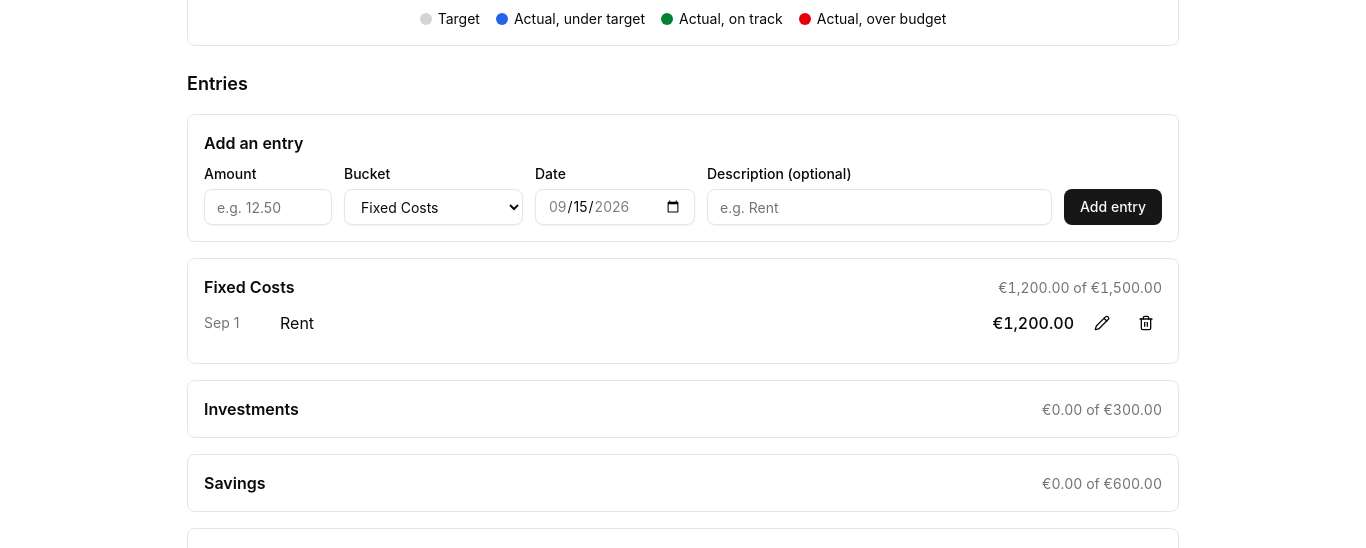
MonthPlanVsActual › explains that the totals could not be updated after an entry is added
The width and height of the screenshot is (1366, 548).
(page scrolled)
Step 1. Type "250" into the field labelled "Amount" → [268, 207], box [204,189,332,225]
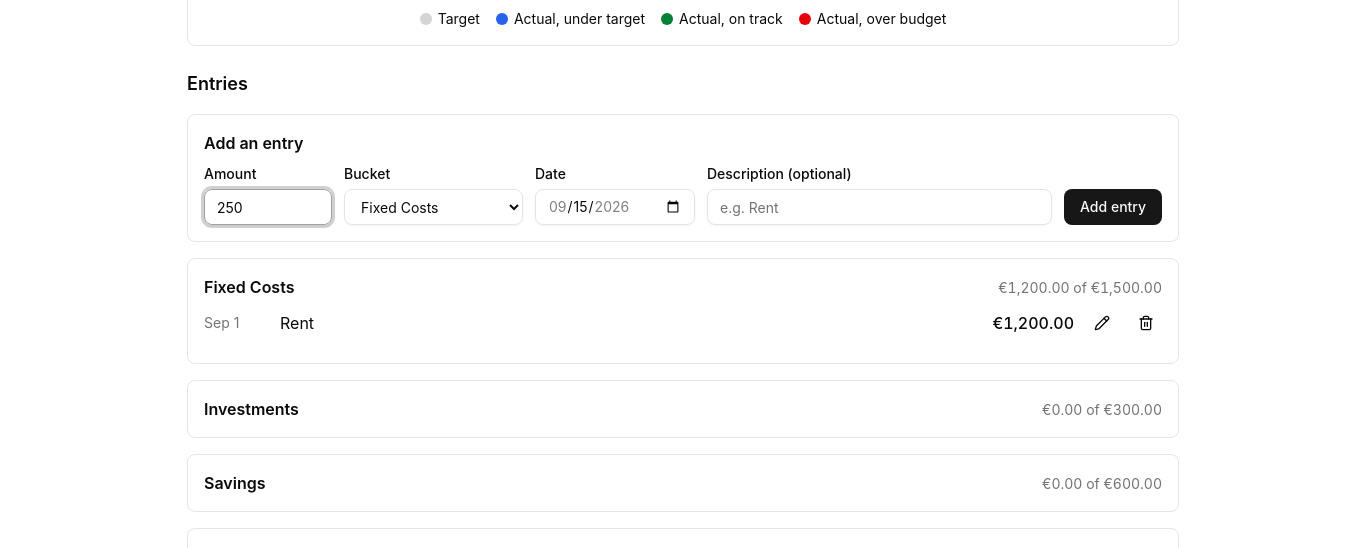
Step 2. Select "Investments" in the dropdown labelled "Bucket" → [434, 207], box [344,189,523,225]
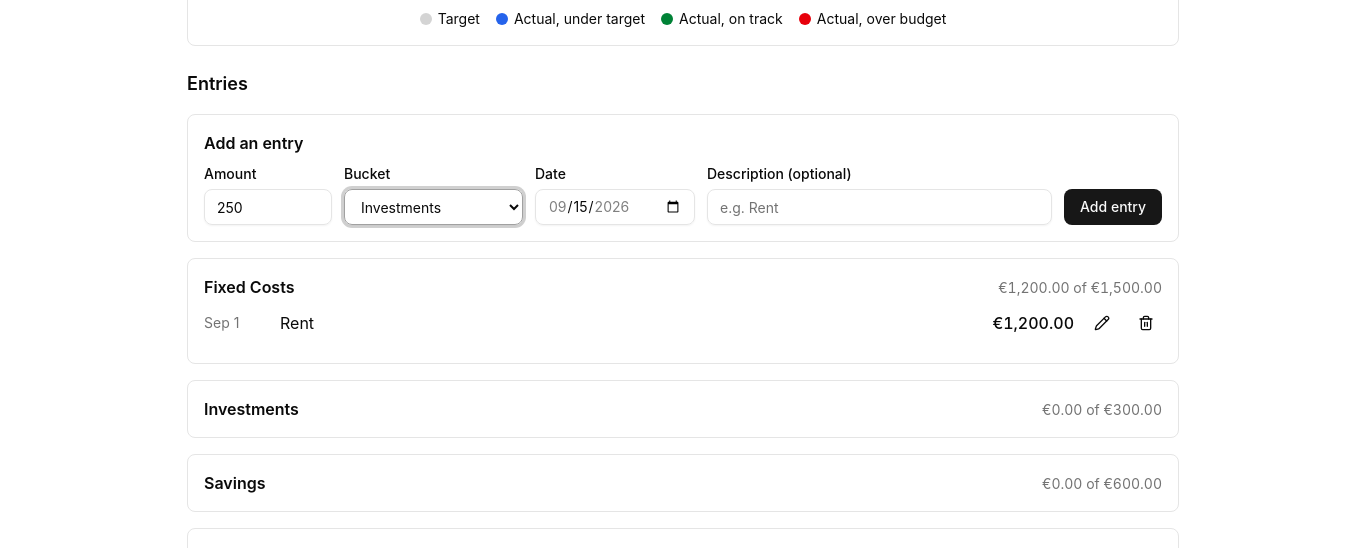
Step 3. Type "ETF" into the field labelled "Description (optional)" → [880, 207], box [707,189,1052,225]
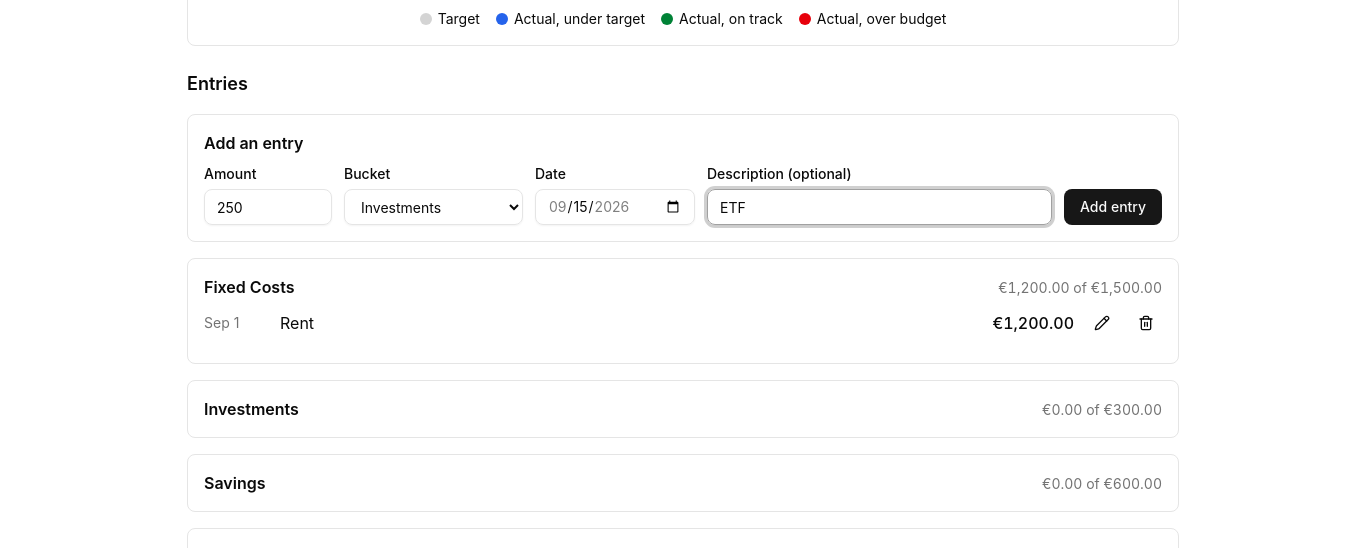
Step 4. Click the button "Add entry" → [1113, 207], box [1064,189,1162,225]
(page scrolled)
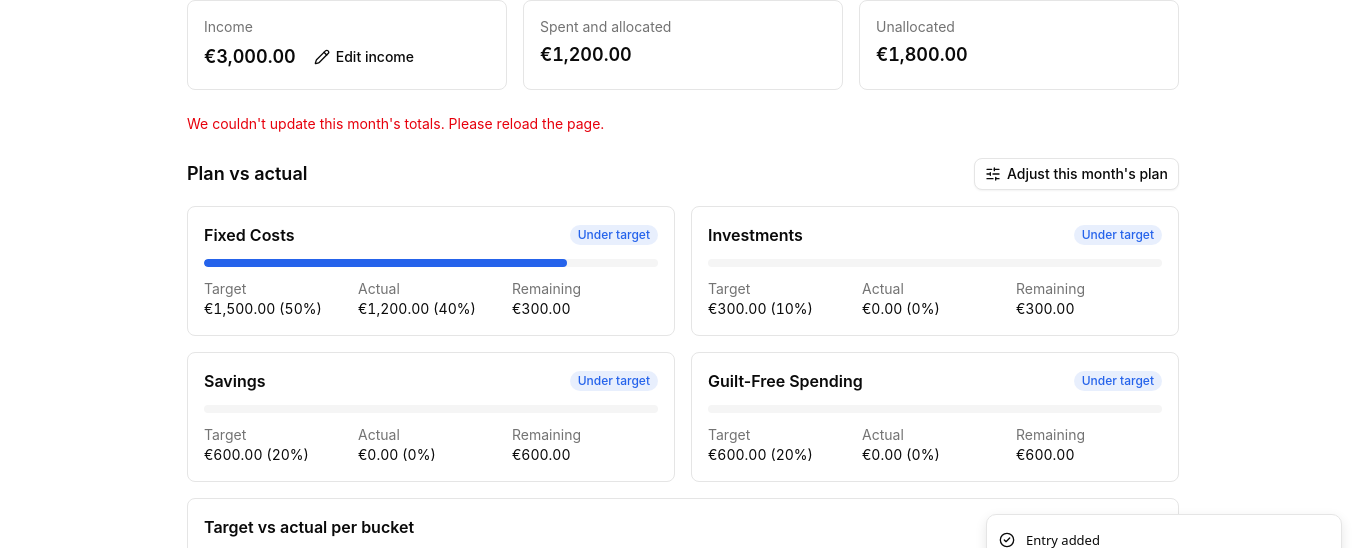
Check: the message reads "We couldn't update this month's totals. Please reload the page.", box [187,115,604,132]
